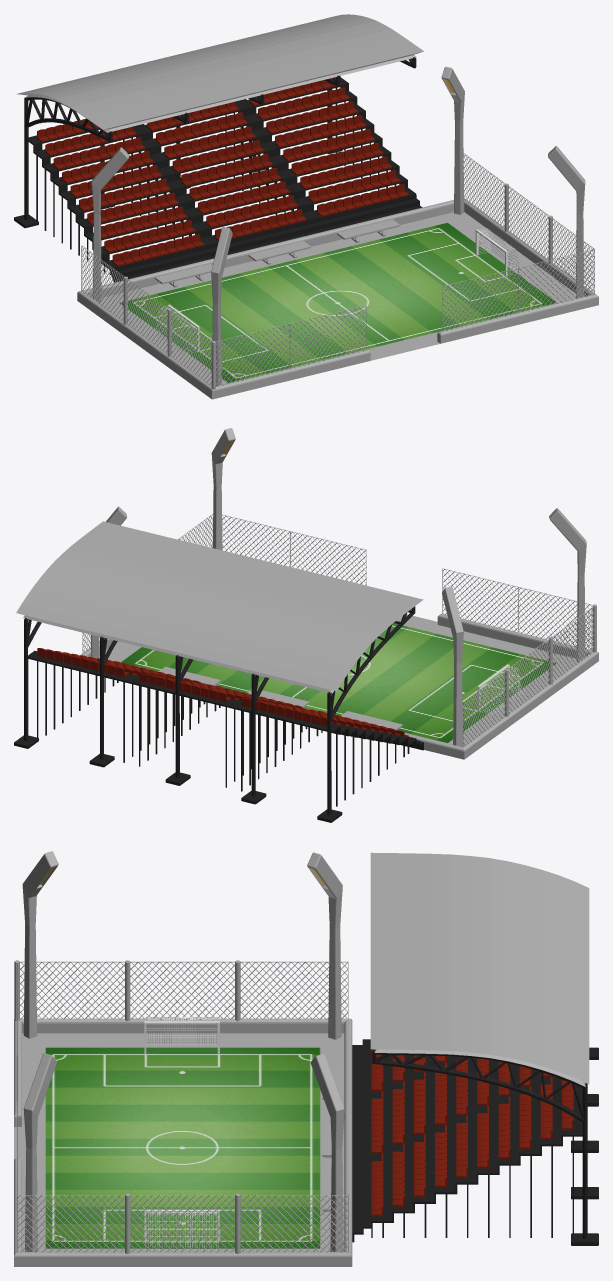
The model's file is Football Court.fbx.
3 views of the same model, one above another, from view 1: azimuth 30°, elevation 25°; view 2: azimuth 150°, elevation 25°; view 3: azimuth 270°, elevation 25° (orthographic). The views are drawn at different scales.
Parts seen in each view (by area): view 1: court; view 2: court; view 3: court.
Part boxes in pixels (bbox=[...]): court: bbox=[14, 14, 598, 399]; court: bbox=[14, 428, 598, 822]; court: bbox=[14, 851, 598, 1266].
Size of the model in its own units: 26.5 by 10.32 by 27.68.
Materials: 7 (7 with a texture image).
